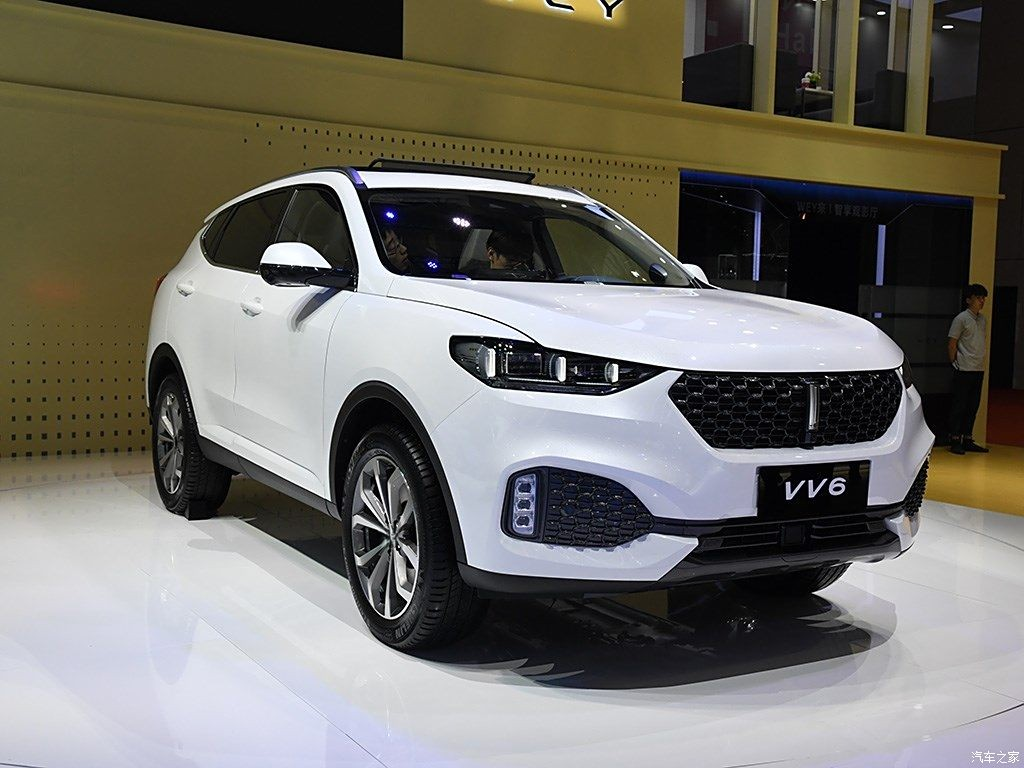WEY: (810, 384, 821, 429)
